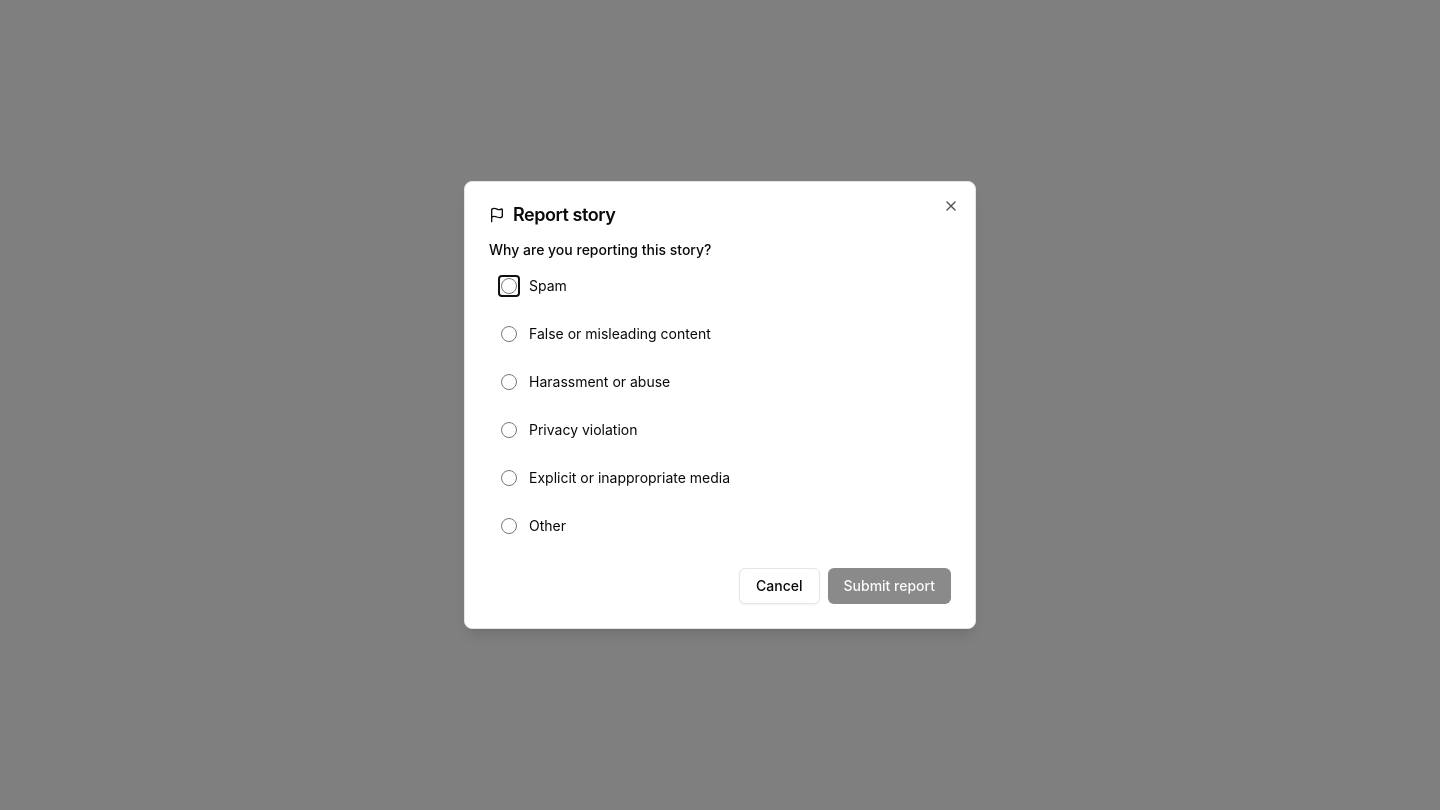
Test: ReportModal › shows success message after successful submission
Click the radio button labelled "Spam".
click(509, 286)  # box [501, 278, 517, 294]
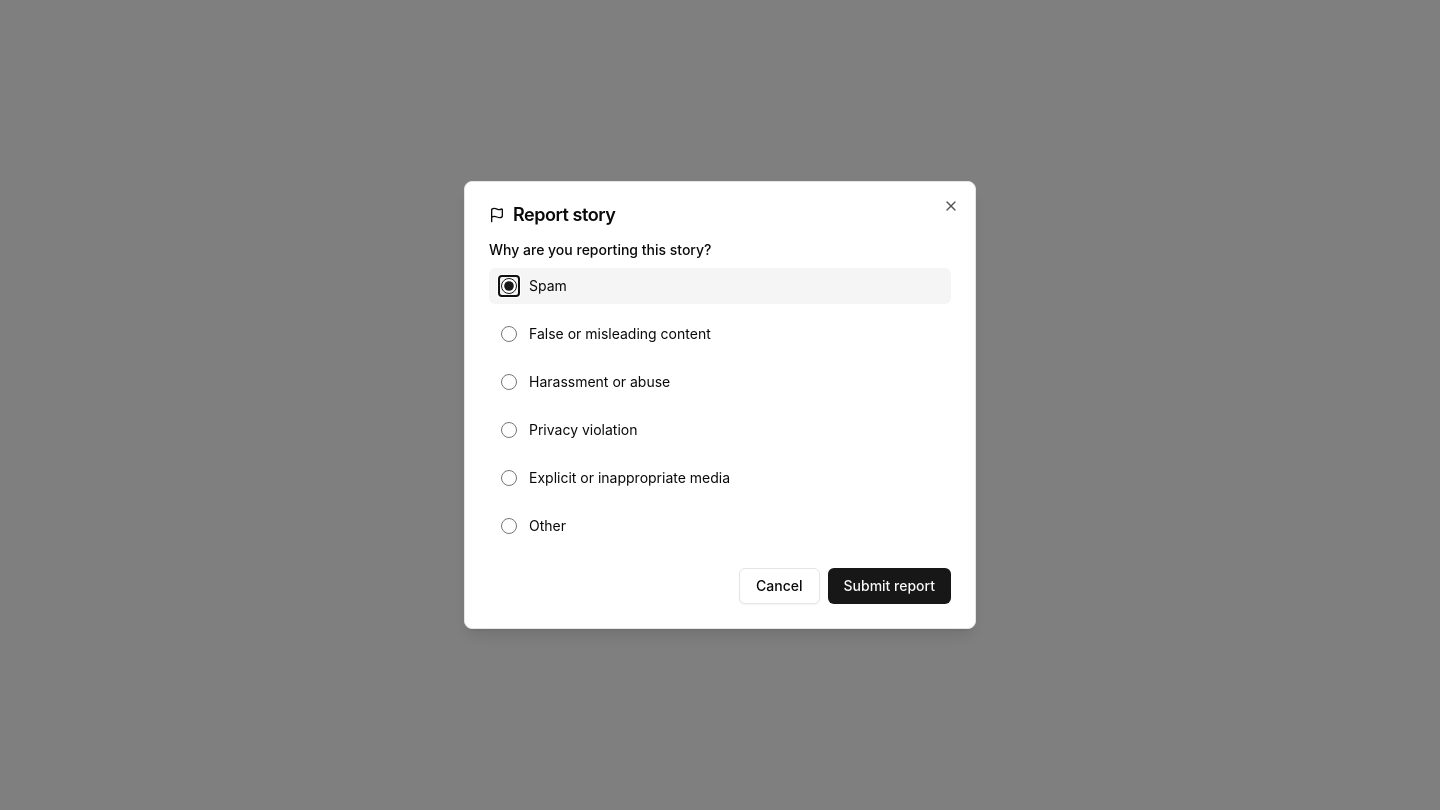
Click the button "Submit report".
click(889, 586)  # box [828, 568, 951, 604]
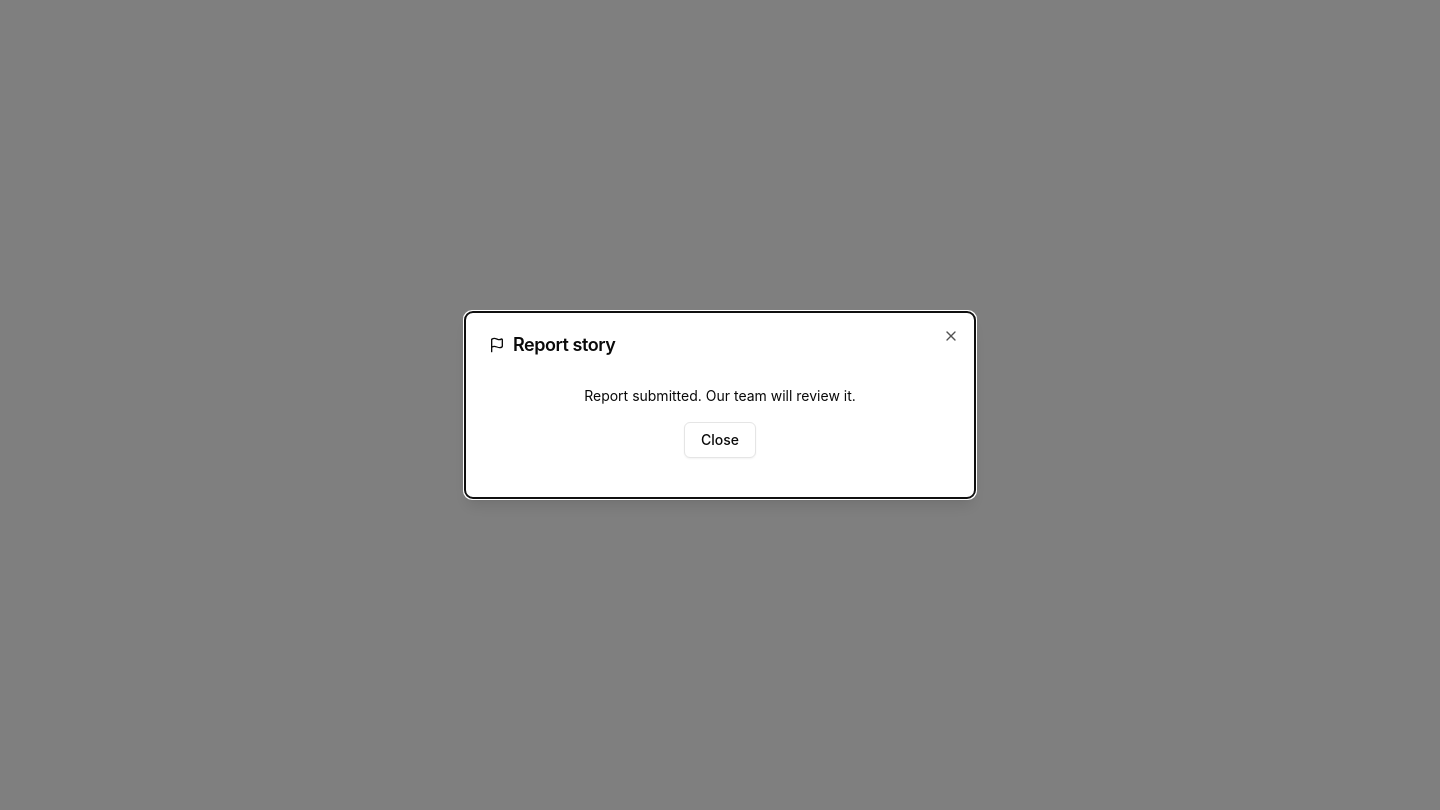
Check: the message reads "Report submitted. Our team will review it.", box [584, 387, 856, 404]
